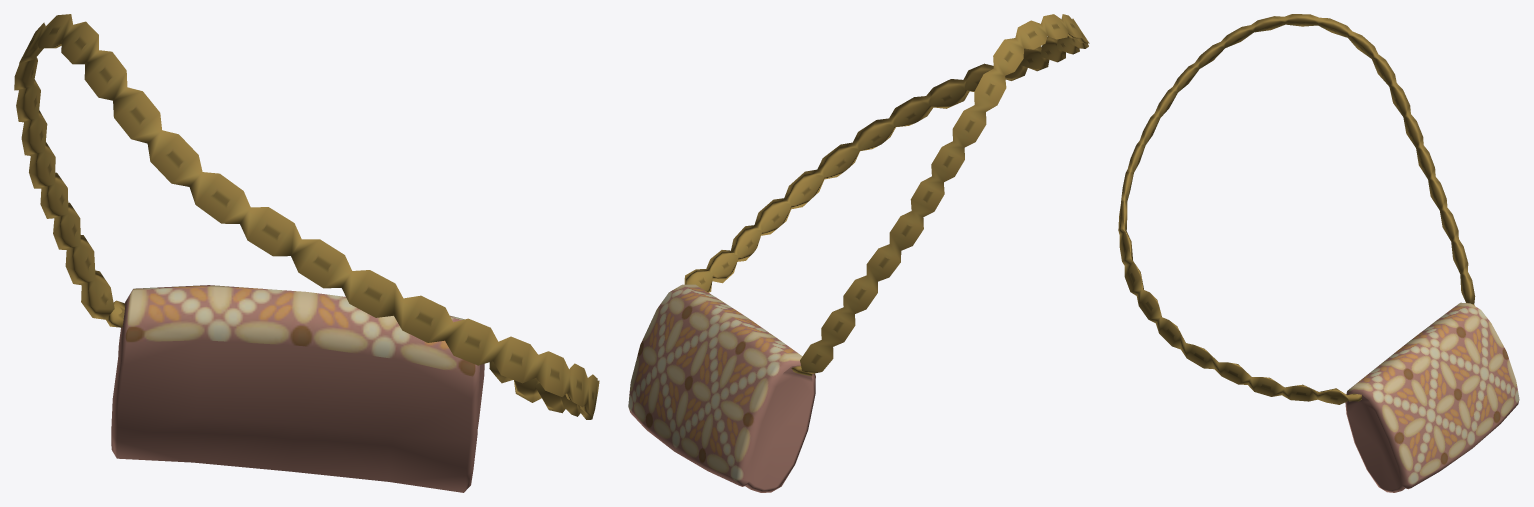
The model's file is BagShoulderParty0.glb.
The picture shows the model from 3 angles, left to right: view 1: azimuth 30°, elevation 25°; view 2: azimuth 150°, elevation 25°; view 3: azimuth 270°, elevation 25°; orthographic projection. The views are drawn at different scales.
Visible parts, largest first — view 1: Belt__mBag; view 2: Belt__mBag; view 3: Belt__mBag.
Boxes of the visible parts, left/top/right/bottom form: Belt__mBag: left=14, top=14, right=599, bottom=492; Belt__mBag: left=628, top=14, right=1089, bottom=492; Belt__mBag: left=1118, top=14, right=1519, bottom=492.
Size of the model in its own units: 3.01 by 3.58 by 3.66.
Materials: 1 (1 with a texture image).
